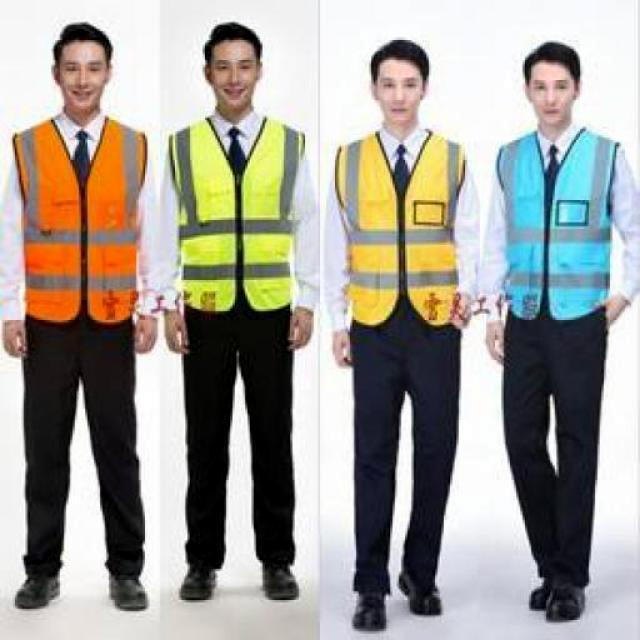no_head_wear: (54, 22, 111, 65), (371, 40, 428, 82), (524, 42, 579, 84), (205, 22, 261, 62)
person: (481, 42, 639, 621), (324, 40, 478, 630), (160, 24, 318, 599), (2, 22, 146, 610)
